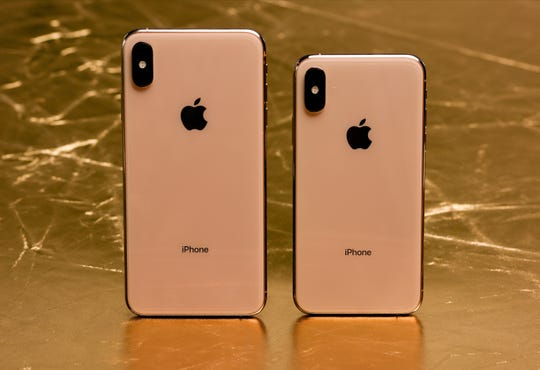apple: (172, 87, 222, 152), (335, 110, 388, 169)
